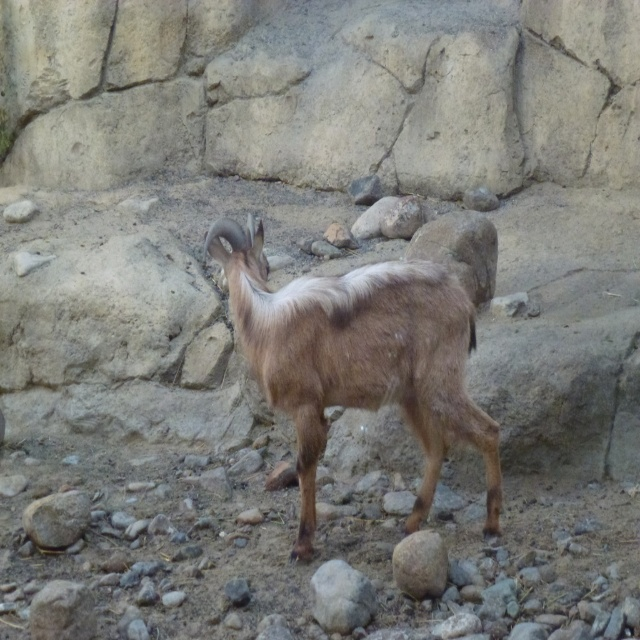Goat: (202, 192, 505, 593)
